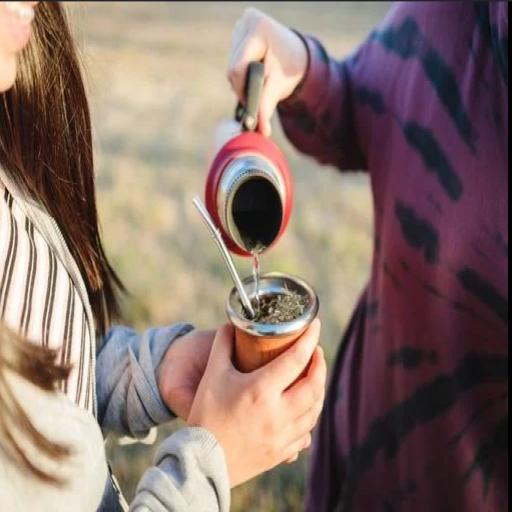mate: (226, 272, 318, 372)
termo: (204, 123, 294, 255)
